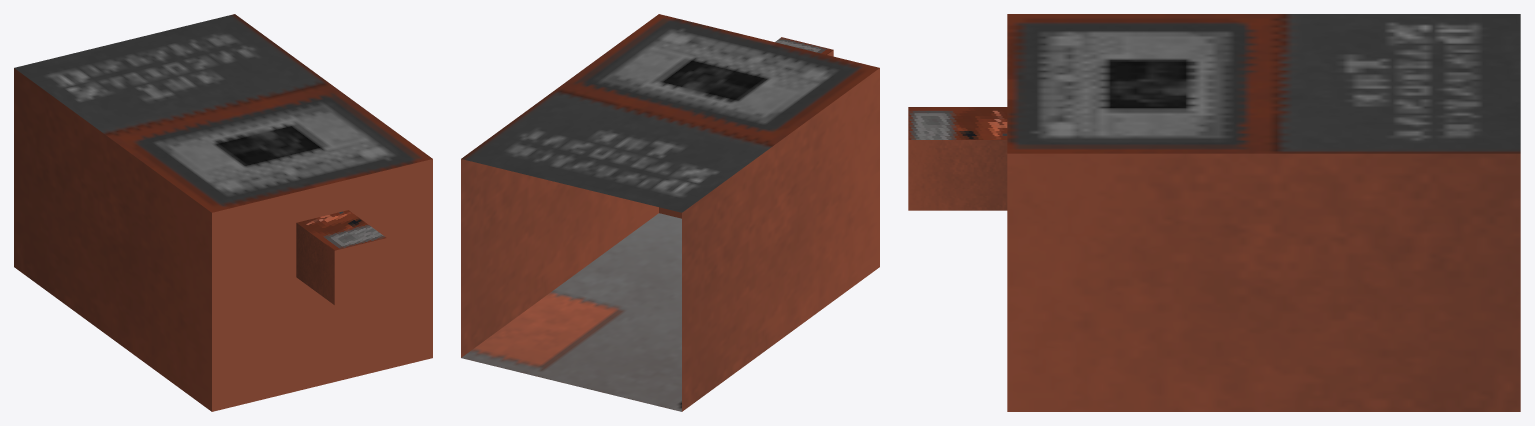
File: pz_native_street_decoration_01_85.obj
3 views of the same model, side by side, from view 1: azimuth 30°, elevation 25°; view 2: azimuth 150°, elevation 25°; view 3: azimuth 270°, elevation 25° (orthographic). The views are drawn at different scales.
Parts seen in each view (by area): view 1: pz_native_street_decoration_01_85; view 2: pz_native_street_decoration_01_85; view 3: pz_native_street_decoration_01_85.
Boxes of the visible parts, x1,y1,x2,y2 form: pz_native_street_decoration_01_85: (14,14,432,411); pz_native_street_decoration_01_85: (461,14,879,411); pz_native_street_decoration_01_85: (908,14,1520,411).
Size of the model in its own units: 0.7892 by 0.6796 by 1.46.
1 material, 1 textured.
